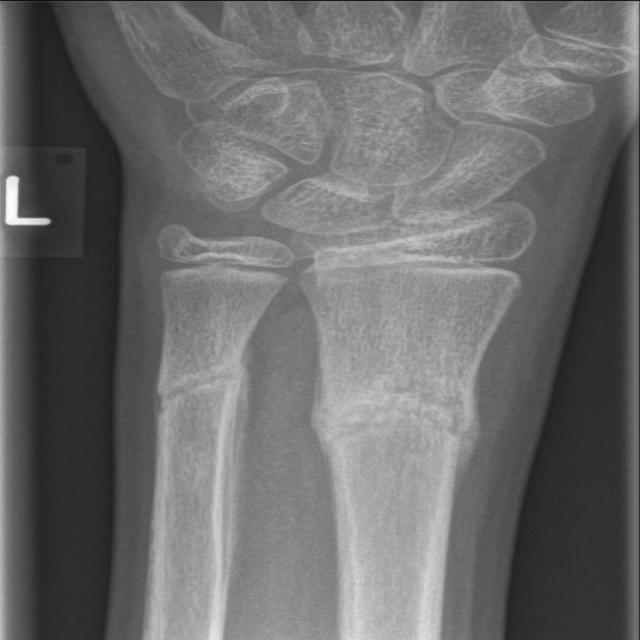radius fracture: (317, 344, 494, 523)
ulna fracture: (152, 333, 244, 462)
